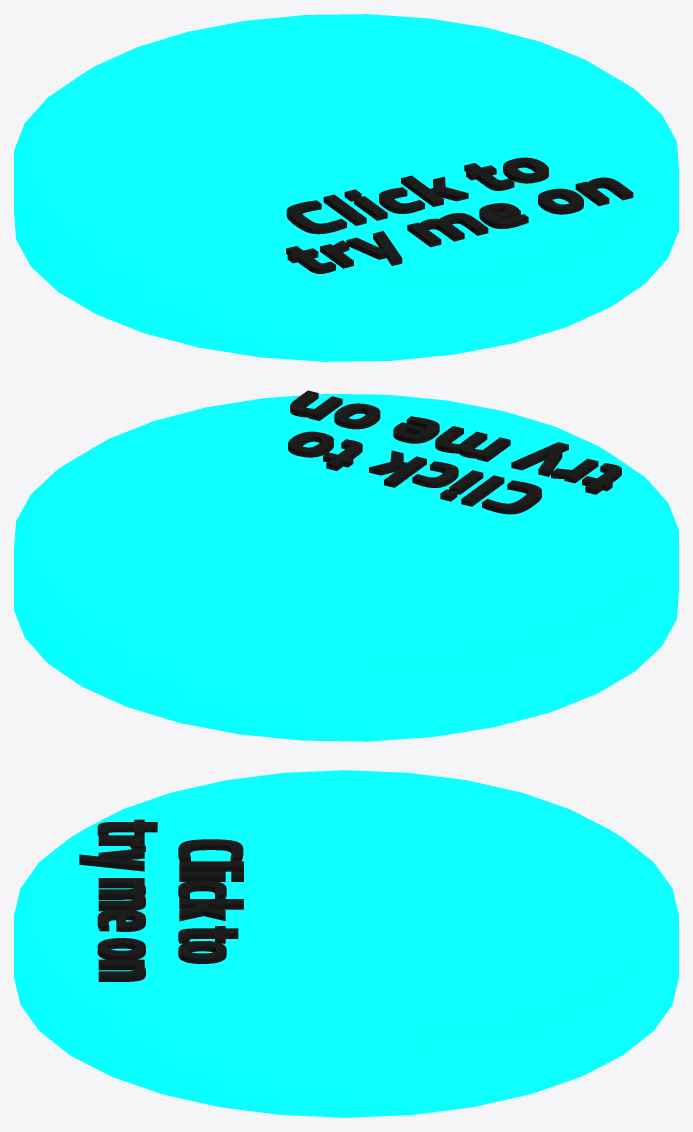
Rendered from avatar-pedestal.fbx.
3 renders of one model, top to bottom at view 1: azimuth 30°, elevation 25°; view 2: azimuth 150°, elevation 25°; view 3: azimuth 270°, elevation 25°, orthographic.
Visible parts, largest first — view 1: Cylinder; view 2: Cylinder; view 3: Cylinder.
Boxes of the visible parts, bbox=[...] form: Cylinder: bbox=[14, 14, 678, 361]; Cylinder: bbox=[14, 390, 678, 741]; Cylinder: bbox=[14, 770, 678, 1117].
Bounding box in the file's own units: 58.16 × 7.71 × 58.16.
